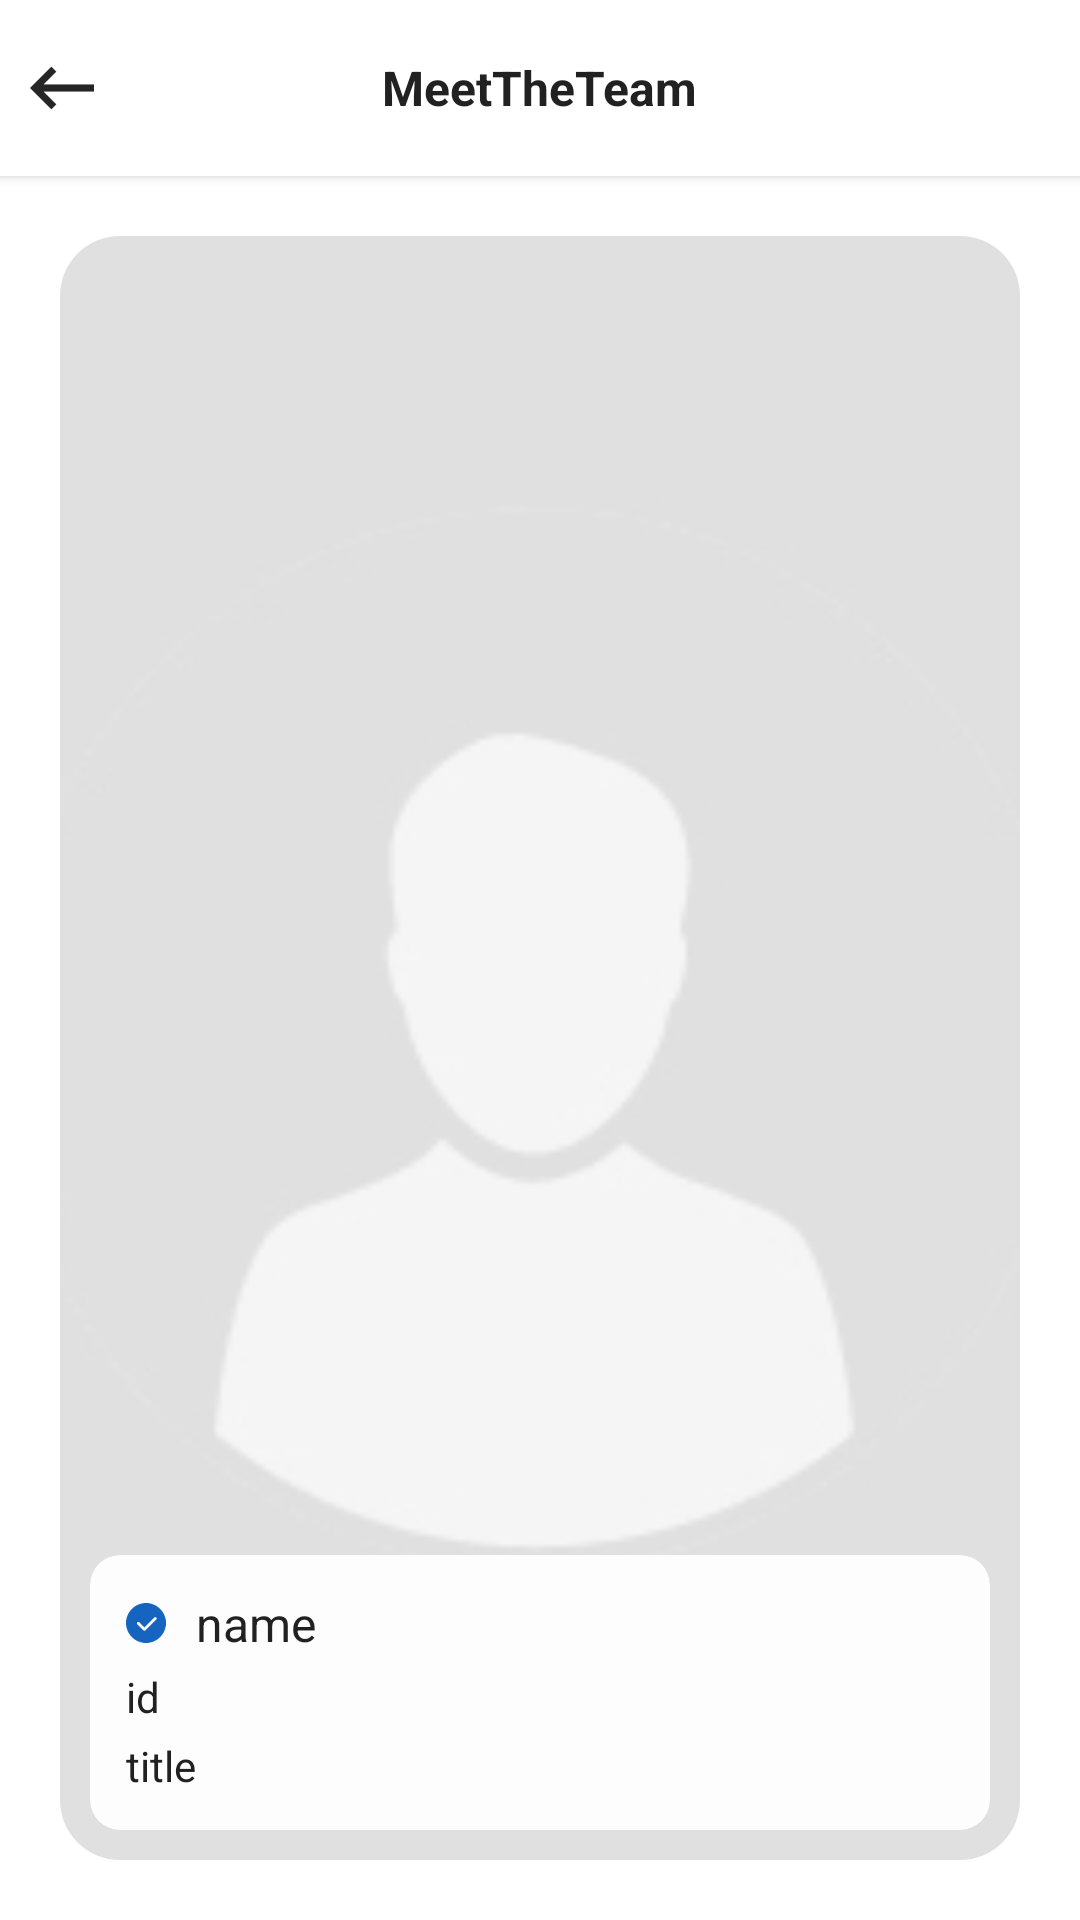

Where icons sit on this 1080×1920 app screen, as region(x1, y1, x2, y2):
back: region(30, 66, 94, 110)
